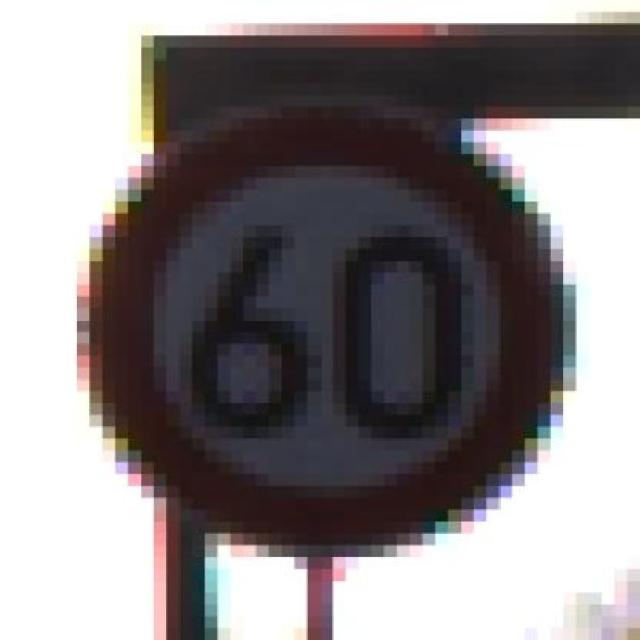forb_speed_over_60: (89, 106, 566, 557)
